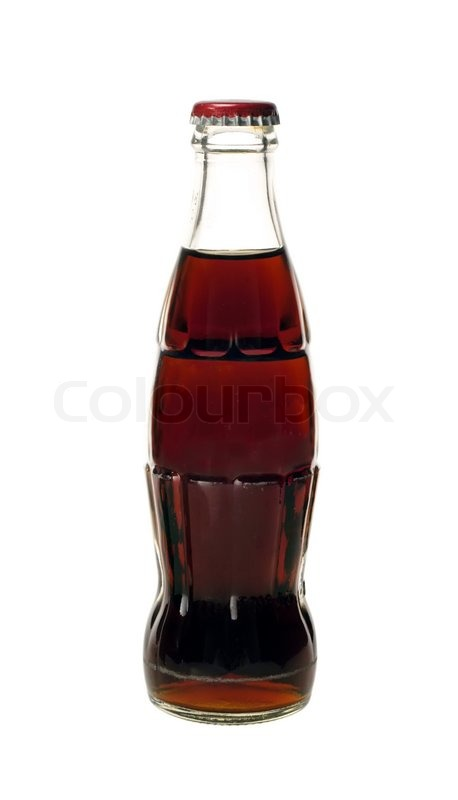Rec_Glass: (129, 86, 328, 743)
